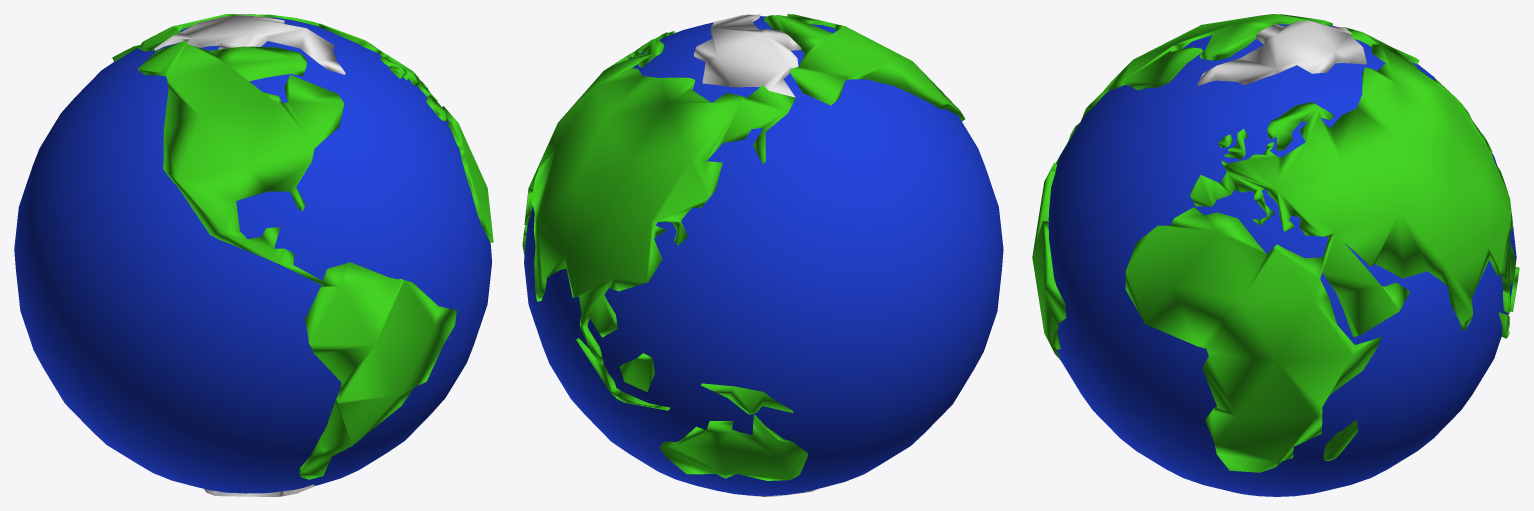
File: low_poly_earth.glb
3 renders of one model, left to right at view 1: azimuth 30°, elevation 25°; view 2: azimuth 150°, elevation 25°; view 3: azimuth 270°, elevation 25°, orthographic.
Visible parts, largest first — view 1: Sphere, Icosphere.001; view 2: Sphere, Icosphere.001; view 3: Icosphere.001, Sphere.
Part boxes in pixels (x1,y1,x2,y2): Sphere: (14, 17, 491, 493); Icosphere.001: (112, 14, 493, 496); Sphere: (524, 16, 1003, 495); Icosphere.001: (522, 14, 964, 496); Icosphere.001: (1032, 14, 1519, 495); Sphere: (1048, 24, 1516, 496).
Bounding box in the file's own units: 2 × 2.02 × 2.01.
